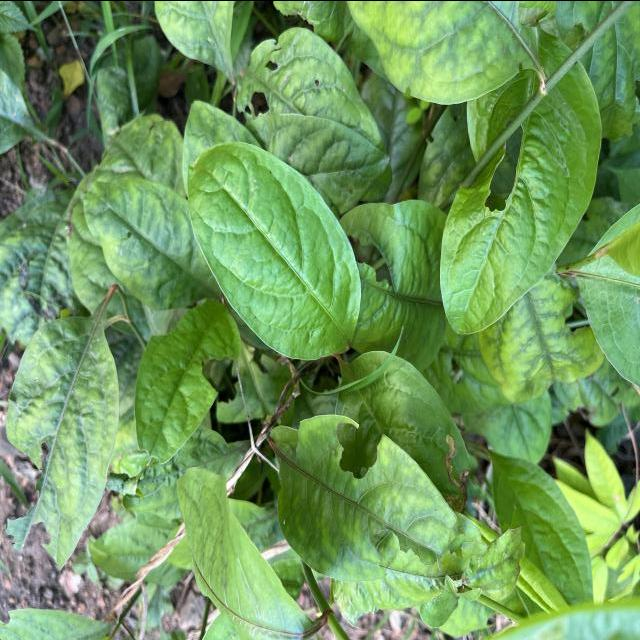Plumbago indica: (438, 30, 606, 338), (184, 138, 364, 362)
